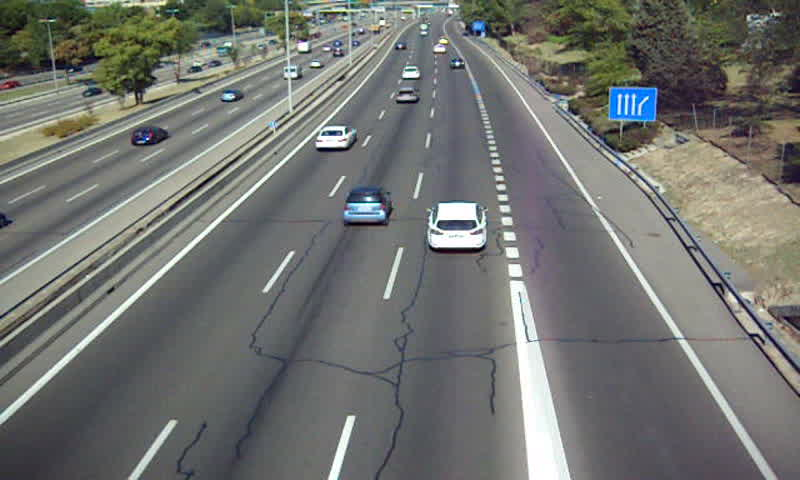car: (425, 202, 490, 251), (341, 188, 392, 227), (312, 126, 356, 152), (394, 86, 418, 104), (400, 66, 420, 81), (450, 56, 466, 69)
